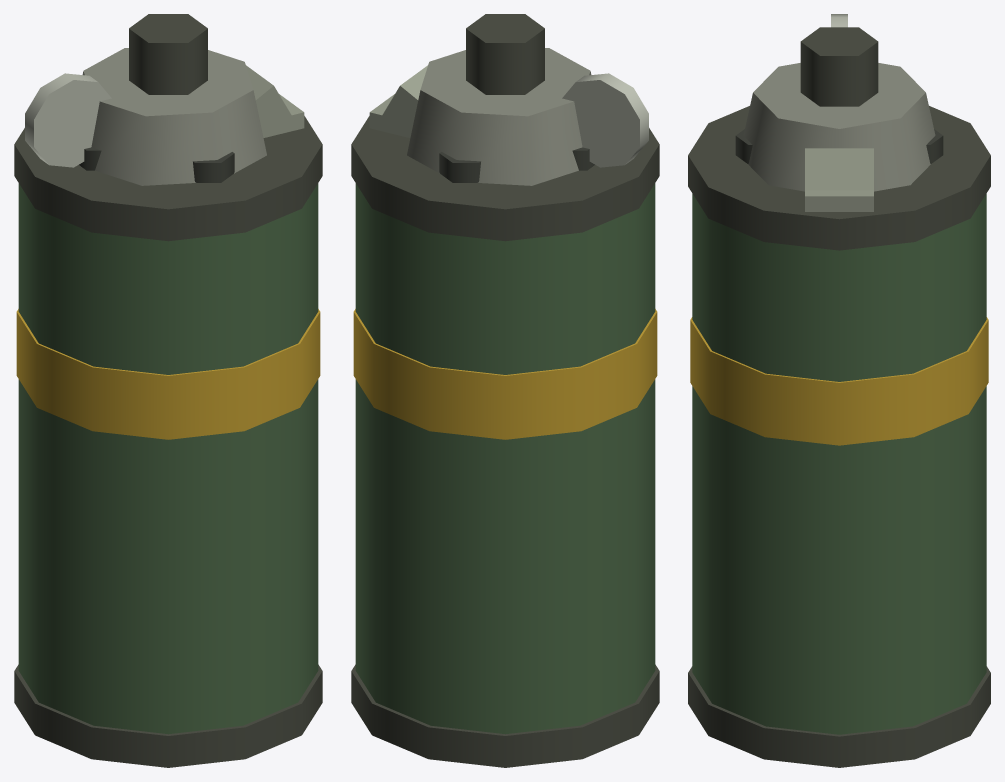
File: smoke_grenade.glb
3 renders of one model, left to right at view 1: azimuth 30°, elevation 25°; view 2: azimuth 150°, elevation 25°; view 3: azimuth 270°, elevation 25°, orthographic.
Parts seen in each view (by area): view 1: Body_Canister, Body_Band, Body_RimTop, Fuse_Cap, Body_RimBottom, Fuse_Striker, Fuse_PullRing, Fuse_SpoonTop, Body_Vent1, Fuse_Spoon; view 2: Body_Canister, Body_Band, Body_RimTop, Fuse_Cap, Body_RimBottom, Fuse_Striker, Fuse_PullRing, Fuse_SpoonTop, Body_Vent3, Fuse_Spoon; view 3: Body_Canister, Body_RimTop, Body_Band, Fuse_Cap, Body_RimBottom, Fuse_Striker, Fuse_SpoonTop, Fuse_Spoon.
Part boxes in pixels (box(x1,y1,x2,y2)): Body_Canister: box(18, 183, 318, 734); Body_Band: box(16, 309, 320, 439); Body_RimTop: box(14, 116, 322, 241); Fuse_Cap: box(82, 48, 266, 185); Body_RimBottom: box(14, 664, 322, 767); Fuse_Striker: box(129, 14, 207, 94); Fuse_PullRing: box(25, 73, 111, 167); Fuse_SpoonTop: box(246, 65, 291, 137); Body_Vent1: box(193, 152, 234, 182); Fuse_Spoon: box(266, 94, 304, 137); Body_Canister: box(355, 183, 655, 734); Body_Band: box(353, 309, 657, 439); Body_RimTop: box(351, 116, 659, 241); Fuse_Cap: box(407, 48, 591, 185); Body_RimBottom: box(351, 664, 659, 767); Fuse_Striker: box(466, 14, 544, 94); Fuse_PullRing: box(562, 73, 648, 167); Fuse_SpoonTop: box(382, 65, 427, 137); Body_Vent3: box(439, 152, 480, 182); Fuse_Spoon: box(369, 94, 407, 137); Body_Canister: box(692, 194, 986, 734); Body_RimTop: box(688, 106, 990, 250); Body_Band: box(690, 317, 988, 445); Fuse_Cap: box(743, 63, 935, 191); Body_RimBottom: box(688, 666, 990, 767); Fuse_Striker: box(800, 27, 878, 106); Fuse_SpoonTop: box(805, 148, 873, 190); Fuse_Spoon: box(805, 190, 873, 211).
Bounding box in the file's own units: 0.0715 × 0.169 × 0.07.
